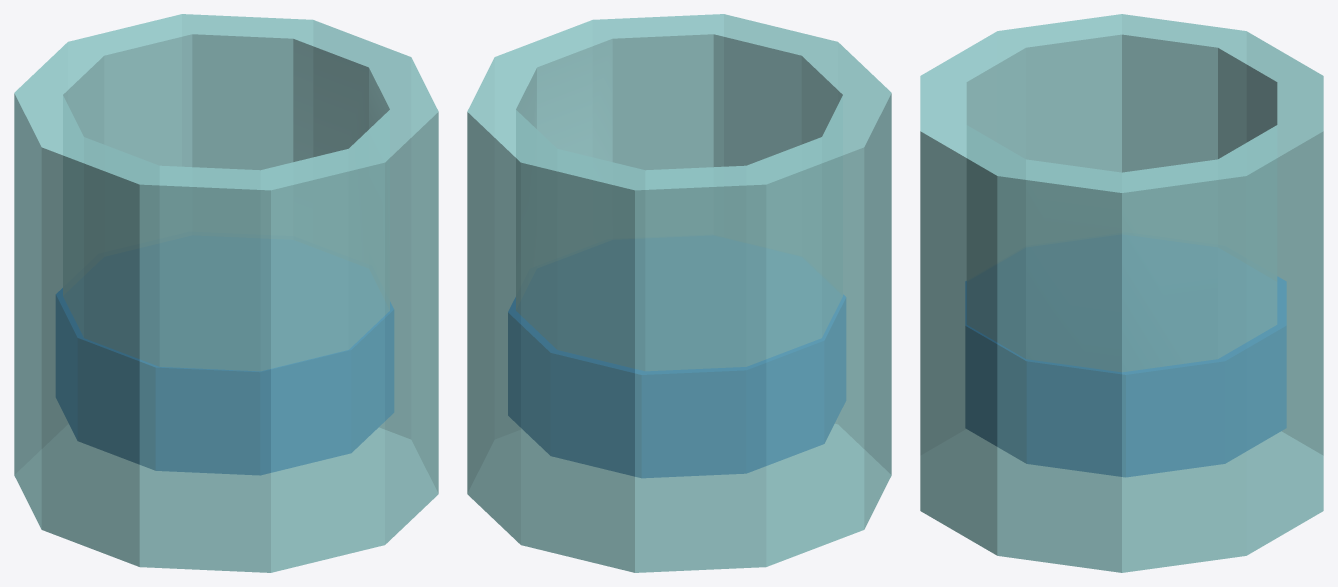
File: Copo2.fbx
3 renders of one model, left to right at view 1: azimuth 30°, elevation 25°; view 2: azimuth 150°, elevation 25°; view 3: azimuth 270°, elevation 25°, orthographic.
Parts seen in each view (by area): view 1: pCylinder3; view 2: pCylinder3; view 3: pCylinder3.
Boxes of the visible parts, x1=… form: pCylinder3: x1=14, y1=14, x2=438, y2=572; pCylinder3: x1=467, y1=14, x2=891, y2=572; pCylinder3: x1=920, y1=14, x2=1323, y2=572.
Bounding box in the file's own units: 2 × 1.98 × 1.9.
